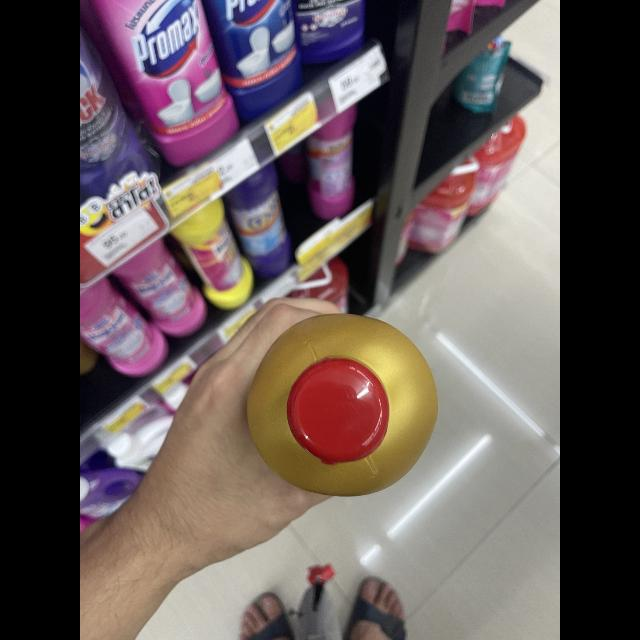chemical_plastic_bottle: (230, 300, 442, 498)
